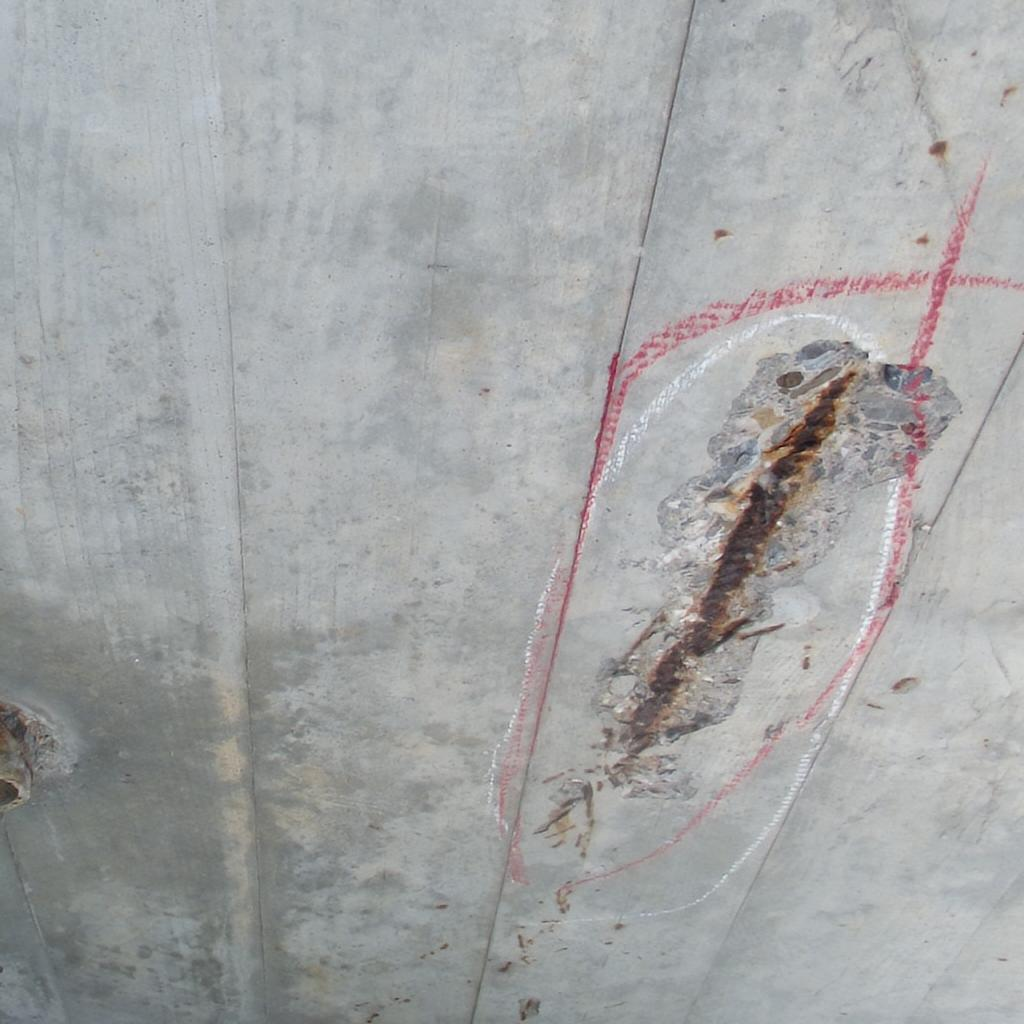exposed_rebar: (648, 372, 854, 693), (628, 706, 658, 753)
spalling: (598, 340, 960, 797)
